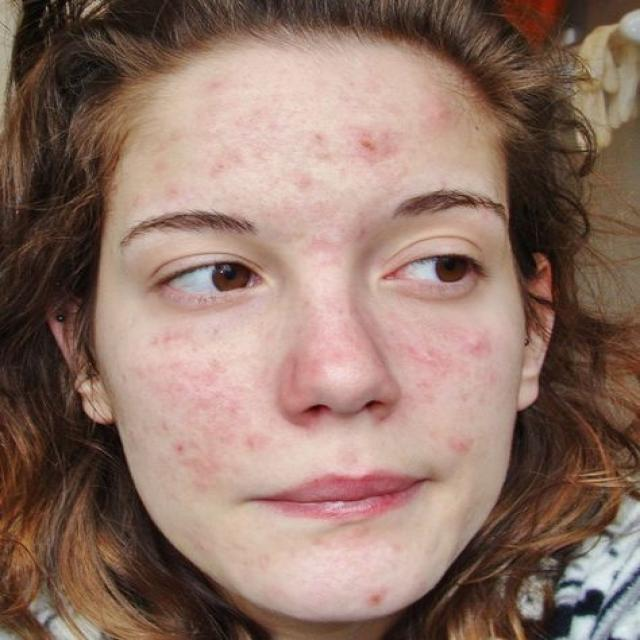Acne: (129, 325, 504, 463), (156, 68, 427, 179)
